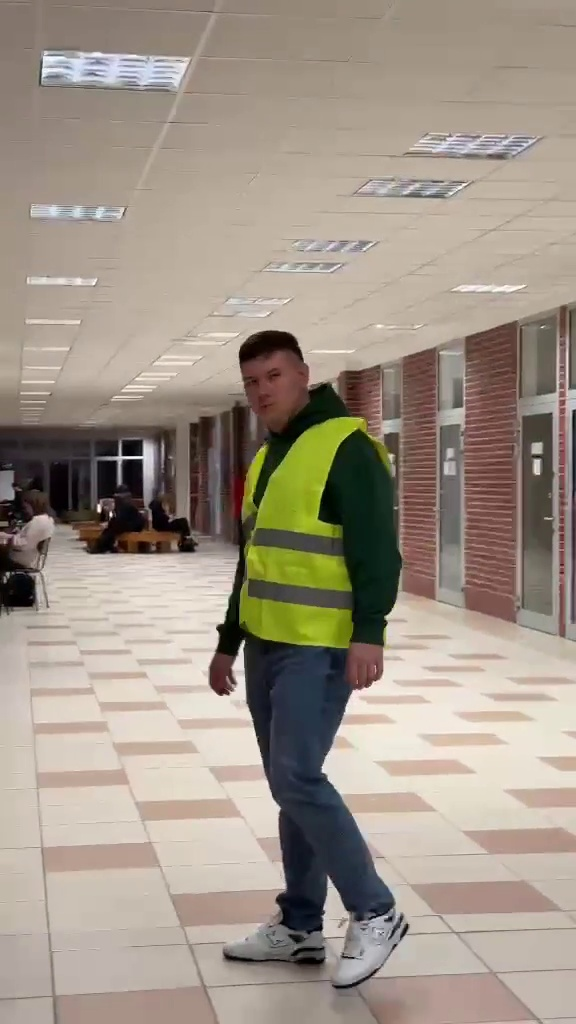vest: (205, 322, 419, 991)
